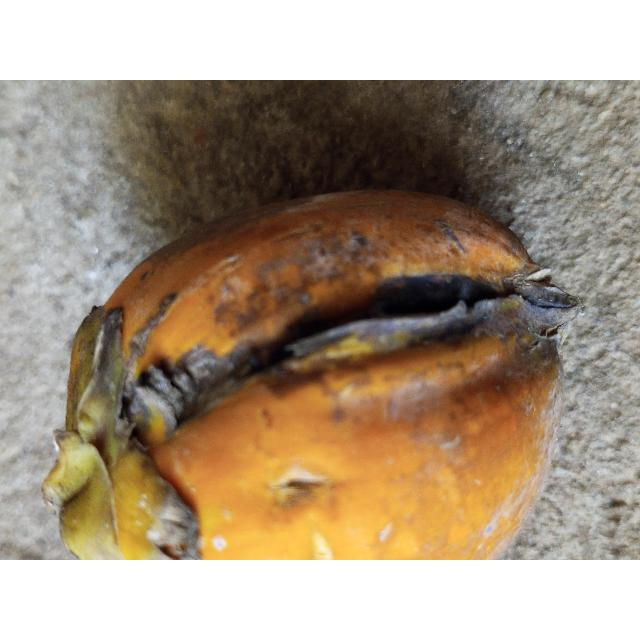damaged: (42, 190, 581, 560)
